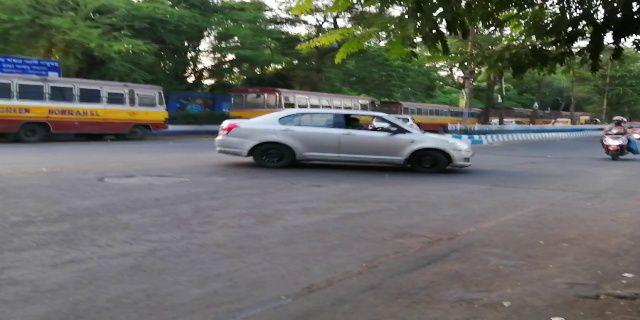Bus: (1, 72, 173, 146), (229, 87, 374, 124)
Car: (210, 106, 475, 182)
Motorbike: (596, 114, 636, 166)
